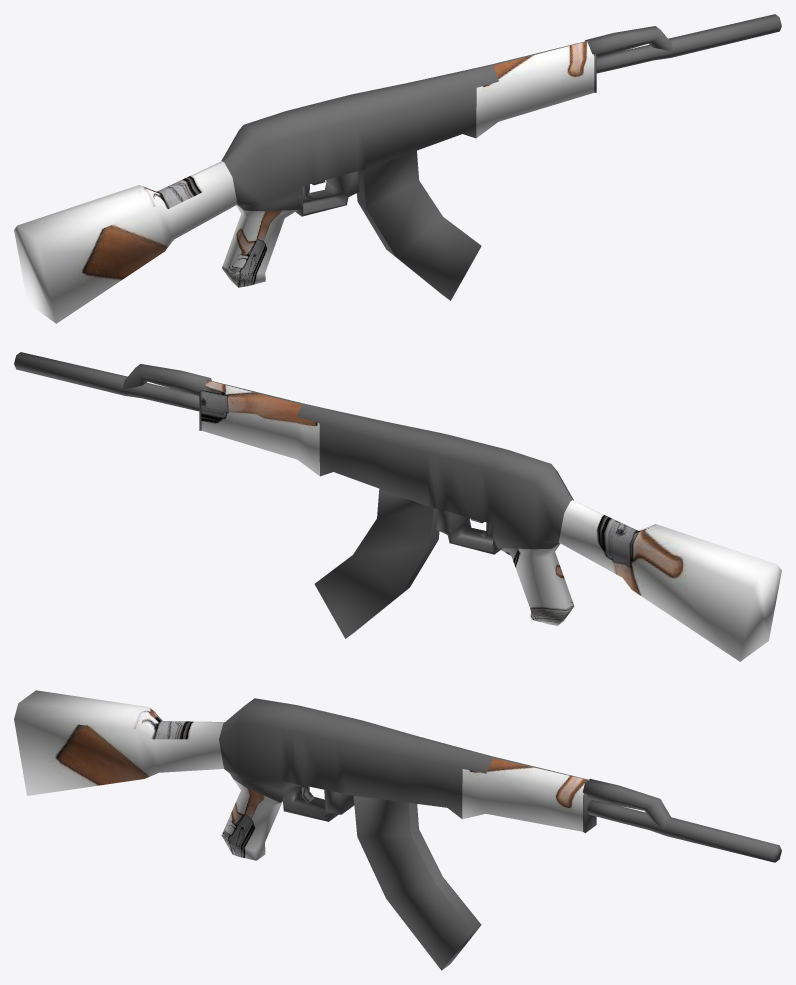
Rendered from Gun.fbx.
The picture shows the model from 3 angles, top to bottom: view 1: azimuth 30°, elevation 25°; view 2: azimuth 150°, elevation 25°; view 3: azimuth 330°, elevation 25°; orthographic projection.
Parts seen in each view (by area): view 1: Cube; view 2: Cube; view 3: Cube.
Boxes of the visible parts, <box> form: Cube: <box>14,14,781,323</box>; Cube: <box>14,352,781,661</box>; Cube: <box>14,690,781,970</box>.
Bounding box in the file's own units: 259 × 73.01 × 17.17.
2 materials, 1 textured.
